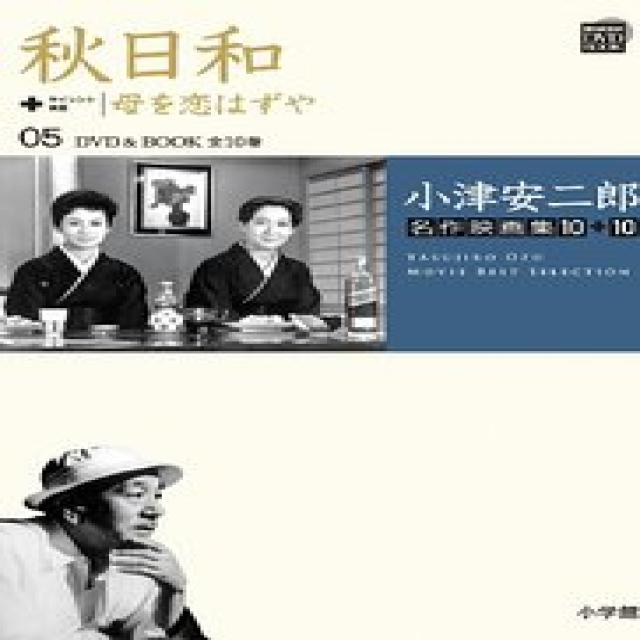movie-judul: (14, 18, 323, 93)
picture: (2, 155, 384, 352), (0, 446, 213, 640)
